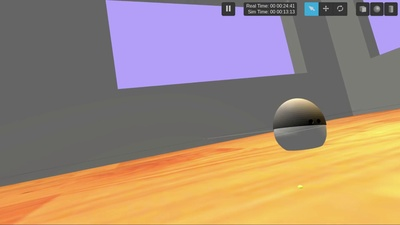mira_robot: (273, 98, 327, 151)
